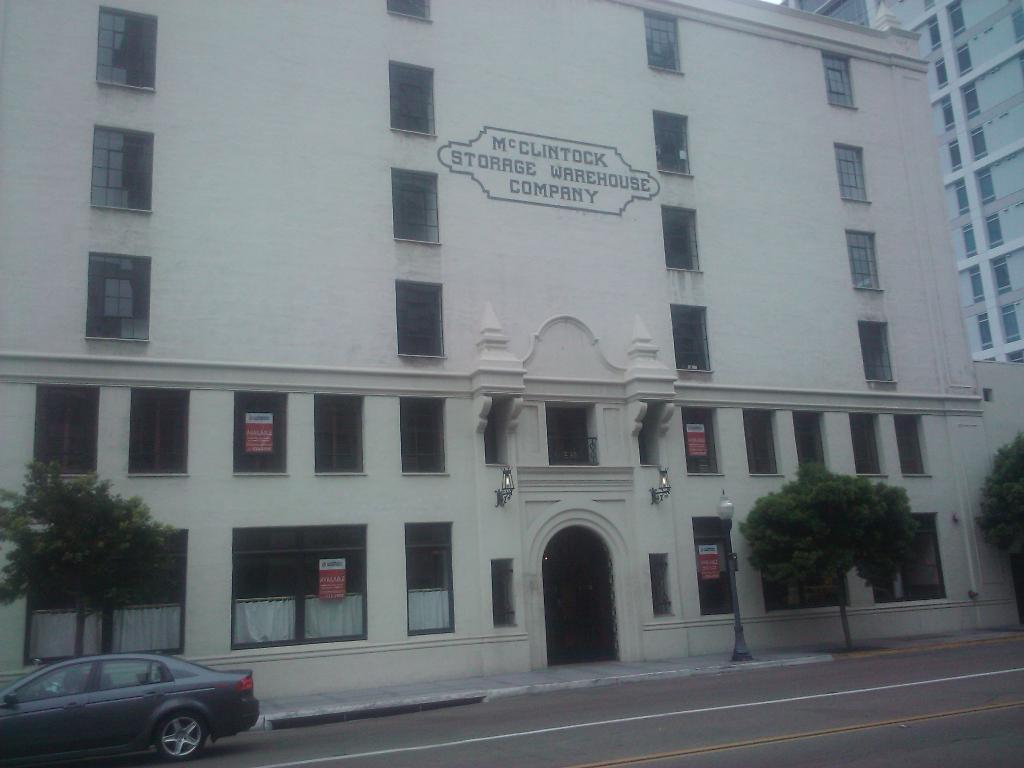Car: (0, 648, 266, 767)
